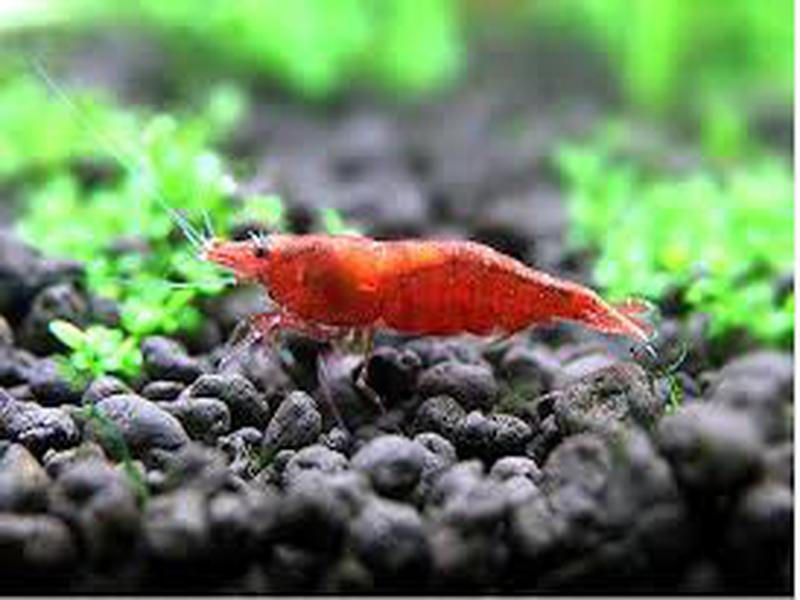shrimp: (202, 233, 656, 356)
